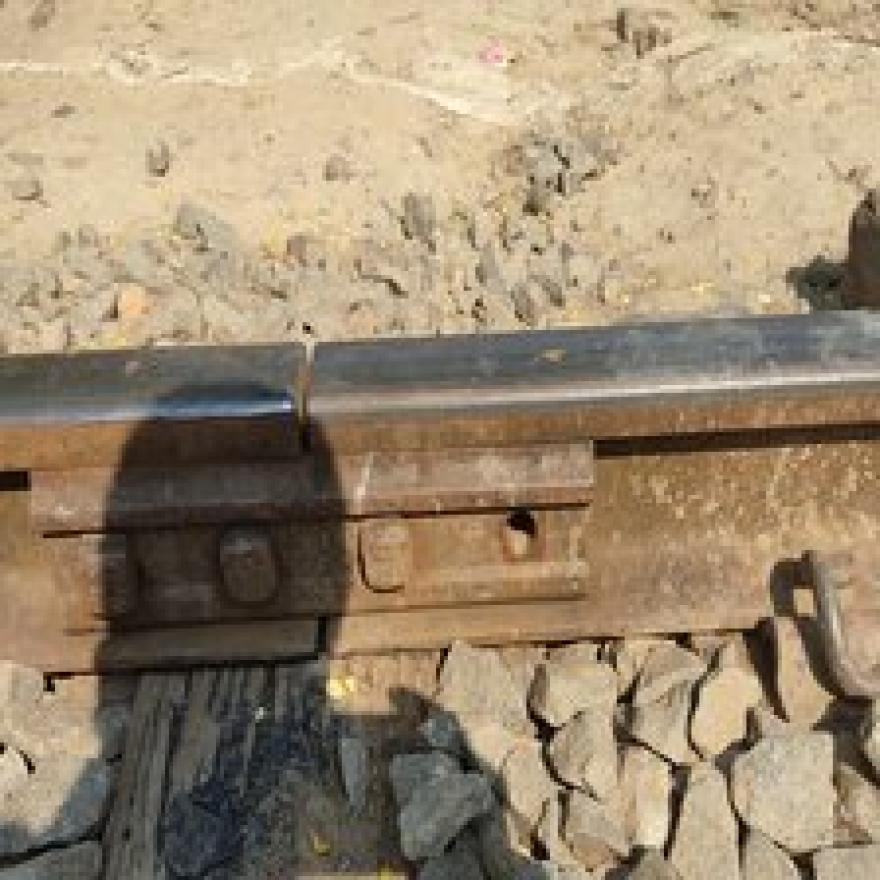railway-gap: (205, 308, 400, 483), (268, 585, 374, 688)
